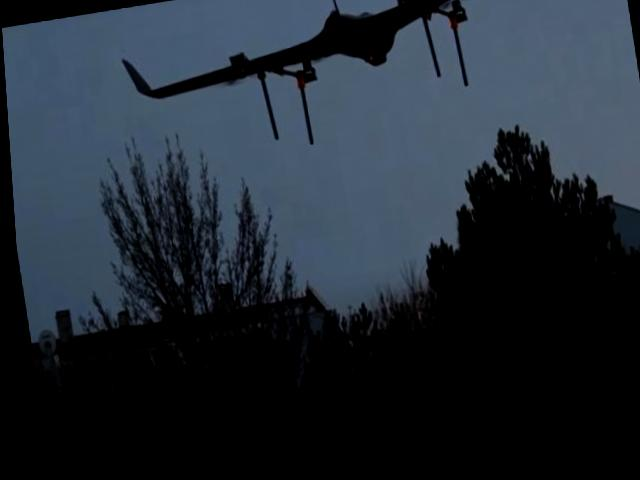iha: (111, 0, 580, 178)
